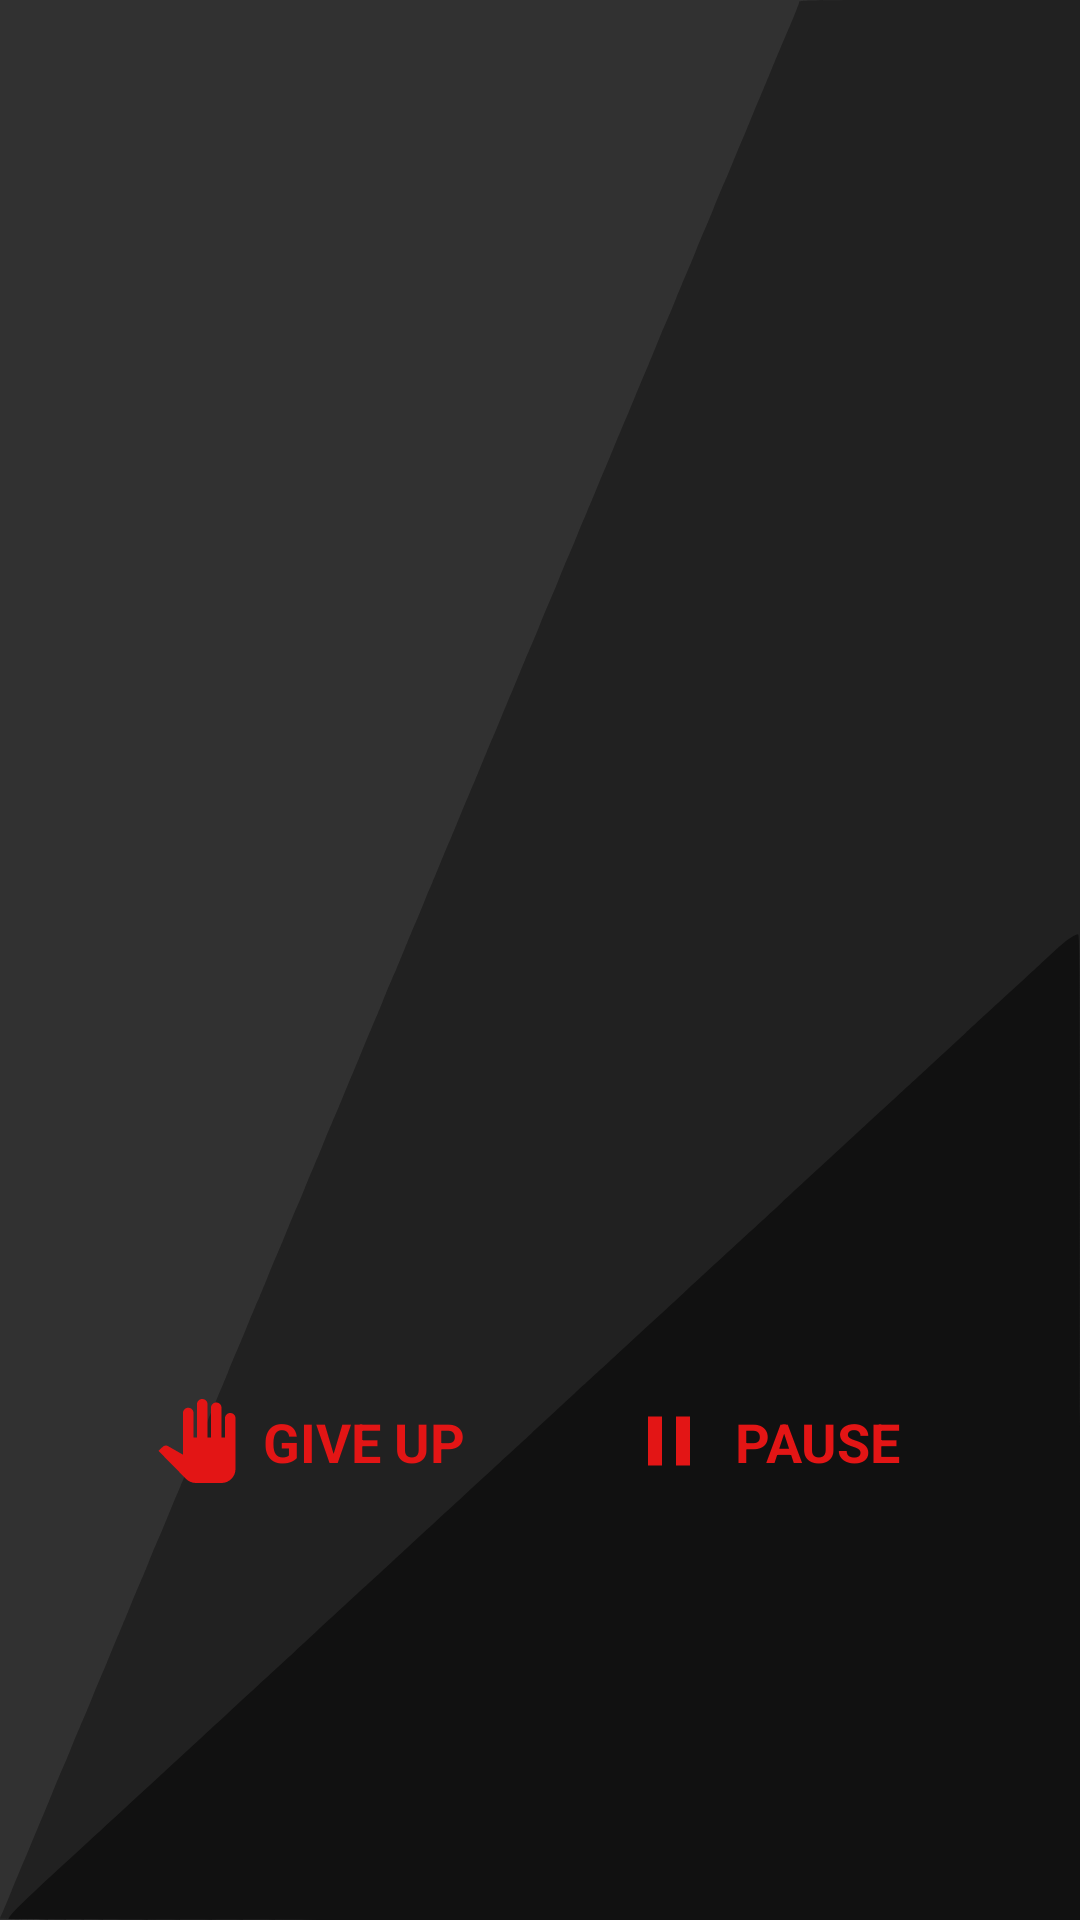

Icons on this 1080px x 1920px Android screen, each with the point to tap as (x=x, y=y):
hand: (x=197, y=1441)
